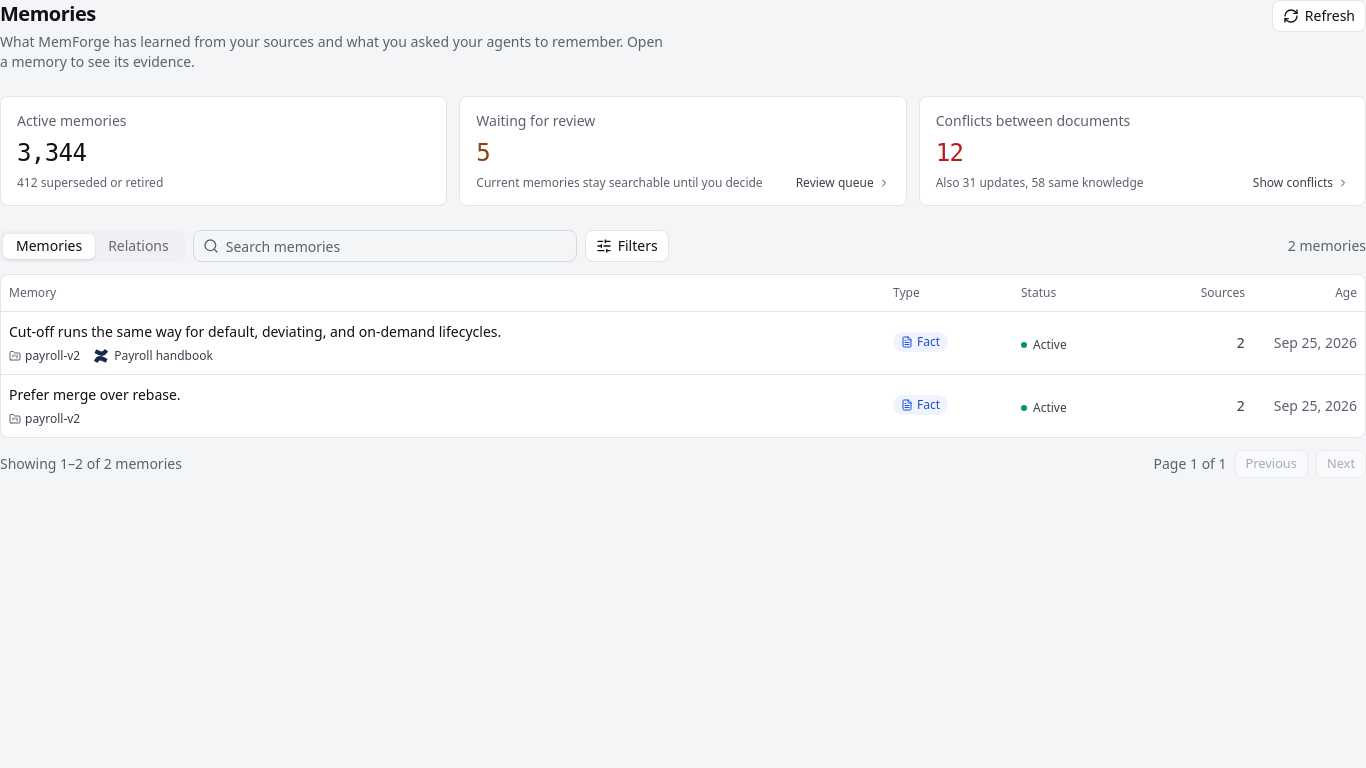
Test case: the list shows active memories until a status filter asks for another status
Expected: the link "Cut-off runs the same way" is shown, [9,322,501,340]
Expected: the link "Scheduled syncs have their own page." is not shown
Click the button "Filters". click: click(627, 246)
box: [585,230,669,262]
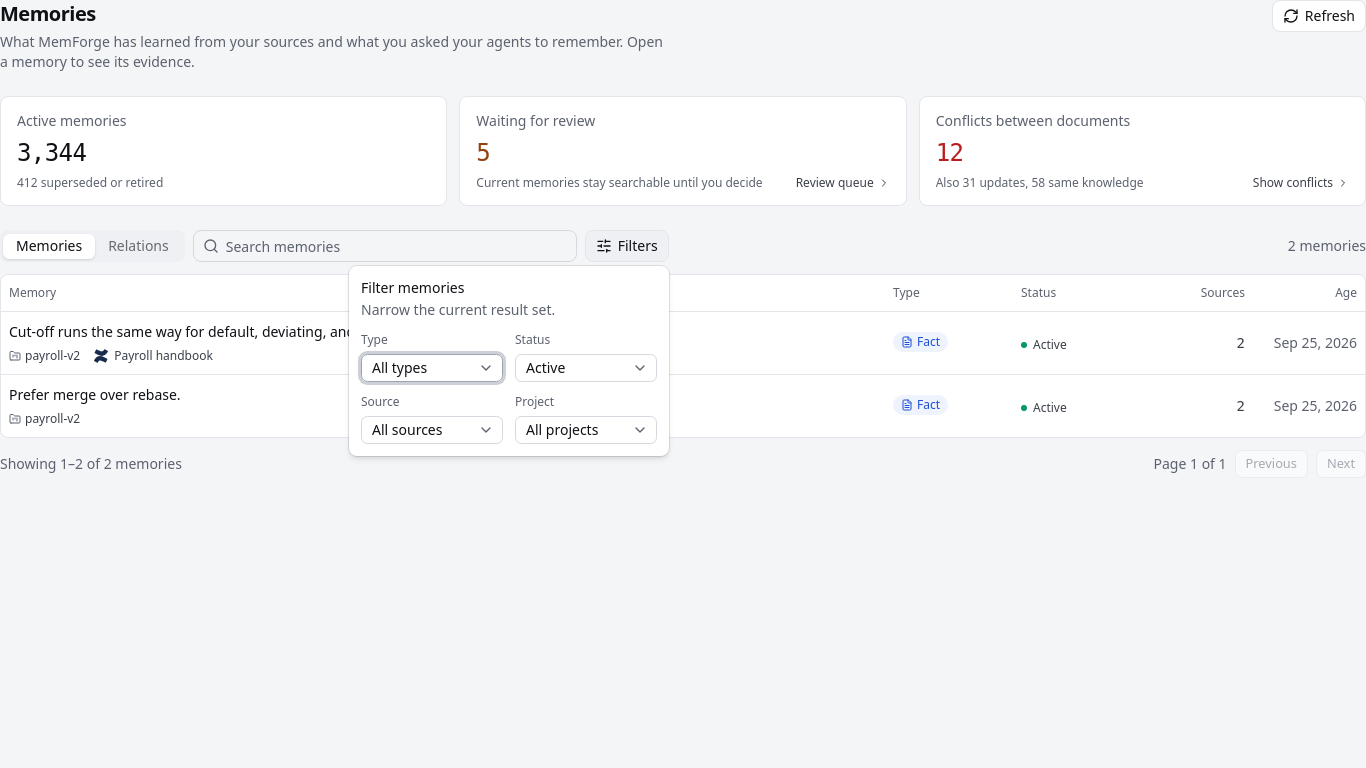
Click the dropdown named "Status". click: click(586, 368)
box: [515,354,657,382]
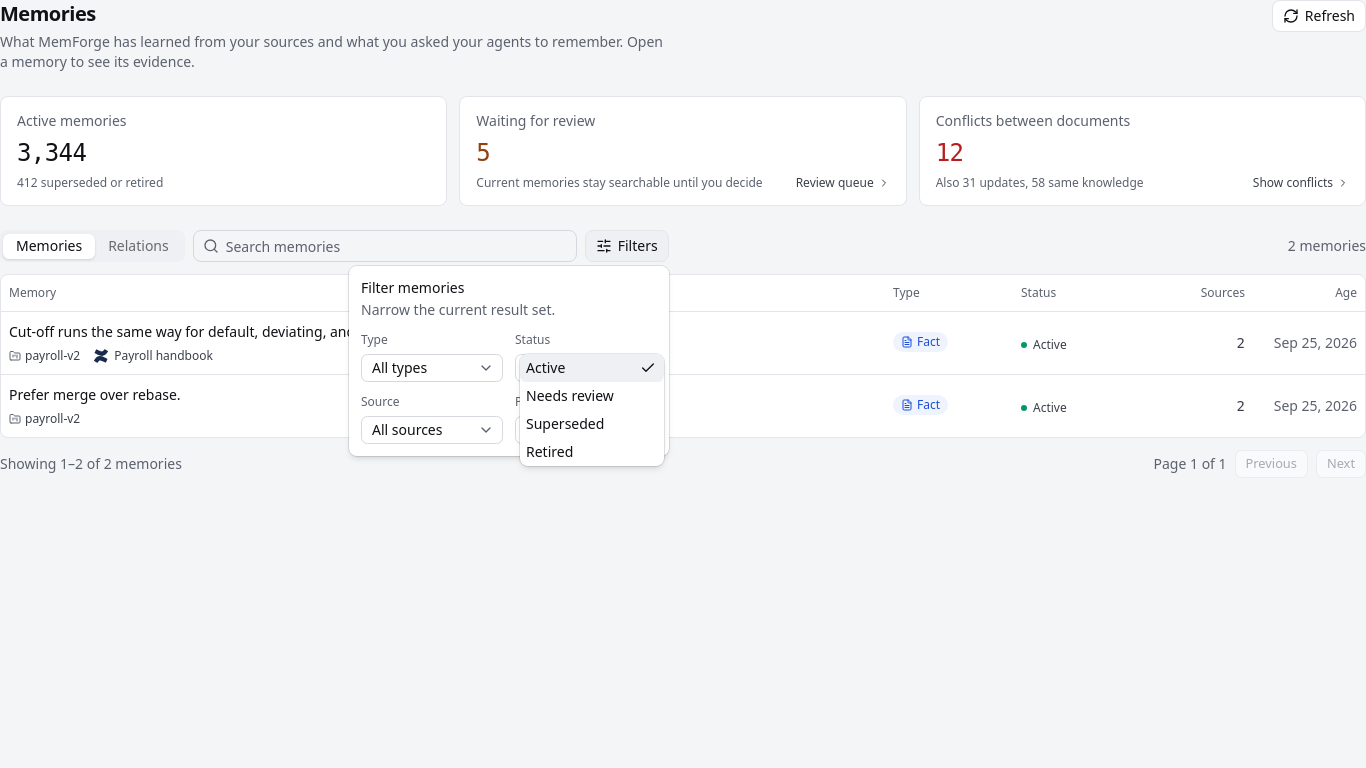
Click the option "Retired". click: click(550, 452)
box: [526,442,573,461]
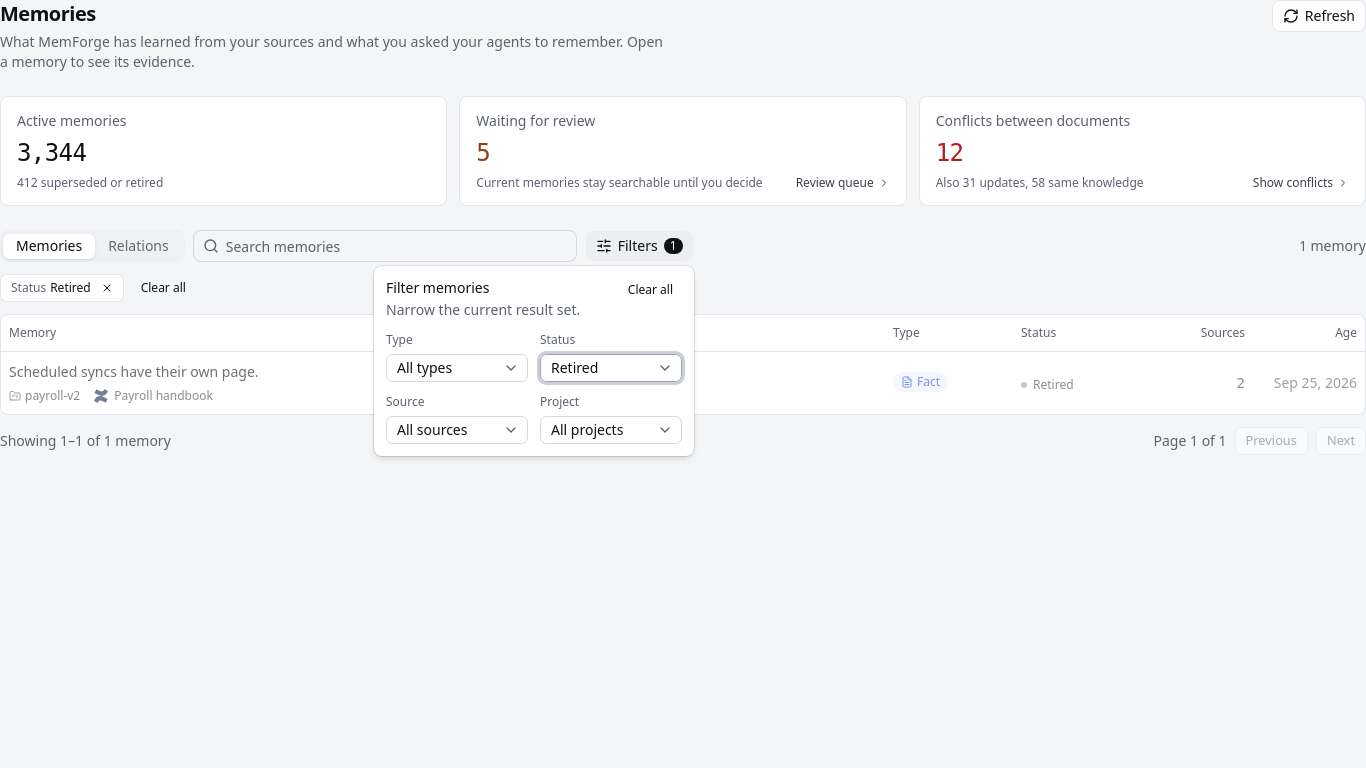
Now the text "Retired" is shown, box [1021,376,1074,392]
Now the link "Cut-off runs the same way" is gone
Now the button named "Remove Status filter" is shown, box [95,276,119,300]
